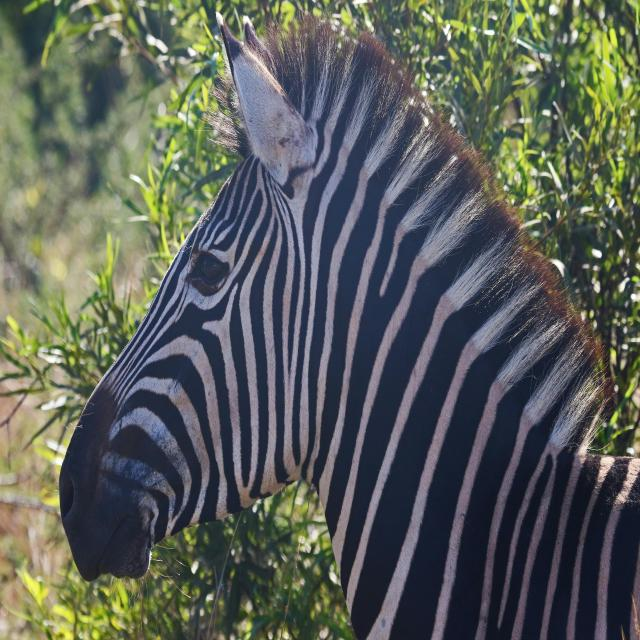Zebra: (59, 4, 640, 640)
